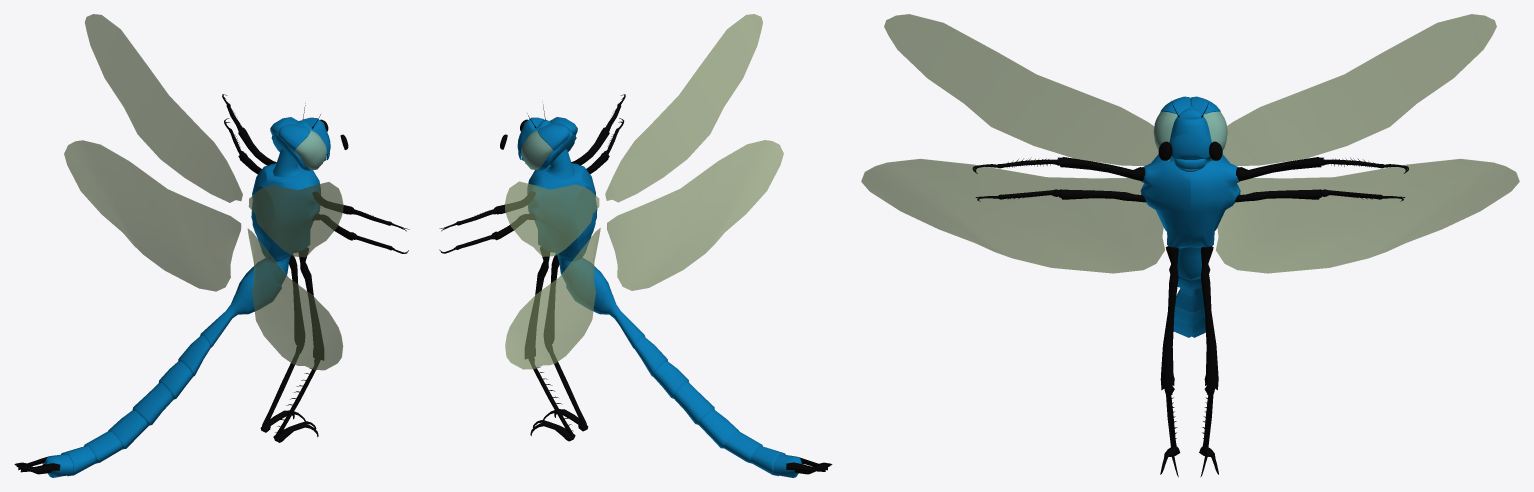
File: PixDragExpd.fbx
3 renders of one model, left to right at view 1: azimuth 30°, elevation 25°; view 2: azimuth 150°, elevation 25°; view 3: azimuth 270°, elevation 25°, orthographic. The views are drawn at different scales.
Visible parts, largest first — view 1: Abdomen, BackL, FrontL, BackR, FrontR, Face_Eyes, LegR, BackFore1 (×2), LegL, R_Lid, Neck; view 2: Abdomen, BackR, FrontR, BackL, FrontL, Face_Eyes, LegL, LegR, R_Lid1, Neck, BackFore1; view 3: BackR, BackL, FrontR, FrontL, Abdomen, Face_Eyes, LegR, LegL, TopArmL, TopArmR, MiddleR, MiddleL.
Boxes of the visible parts, x1=… form: Abdomen: x1=14, y1=163, x2=320, y2=477; BackL: x1=64, y1=140, x2=241, y2=291; FrontL: x1=84, y1=14, x2=242, y2=202; BackR: x1=247, y1=228, x2=343, y2=370; FrontR: x1=248, y1=182, x2=343, y2=257; Face_Eyes: x1=271, y1=117, x2=330, y2=170; LegR: x1=298, y1=247, x2=323, y2=360; BackFore1 (×2): x1=262, y1=344, x2=320, y2=437; LegL: x1=289, y1=253, x2=304, y2=347; R_Lid: x1=278, y1=124, x2=310, y2=150; Neck: x1=273, y1=149, x2=300, y2=177; Abdomen: x1=527, y1=163, x2=832, y2=477; BackR: x1=607, y1=140, x2=783, y2=290; FrontR: x1=605, y1=14, x2=762, y2=202; BackL: x1=505, y1=228, x2=600, y2=369; FrontL: x1=504, y1=181, x2=599, y2=256; Face_Eyes: x1=517, y1=117, x2=576, y2=170; LegL: x1=525, y1=247, x2=549, y2=358; LegR: x1=544, y1=254, x2=559, y2=345; R_Lid1: x1=537, y1=123, x2=569, y2=150; Neck: x1=546, y1=149, x2=574, y2=176; BackFore1: x1=545, y1=343, x2=586, y2=426; BackR: x1=861, y1=158, x2=1164, y2=273; BackL: x1=1216, y1=158, x2=1519, y2=273; FrontR: x1=884, y1=14, x2=1158, y2=165; FrontL: x1=1222, y1=14, x2=1496, y2=165; Abdomen: x1=1140, y1=154, x2=1240, y2=337; Face_Eyes: x1=1153, y1=101, x2=1227, y2=171; LegR: x1=1160, y1=246, x2=1178, y2=390; LegL: x1=1200, y1=246, x2=1218, y2=389; TopArmL: x1=1236, y1=157, x2=1323, y2=181; TopArmR: x1=1058, y1=157, x2=1145, y2=181; MiddleR: x1=1059, y1=189, x2=1146, y2=202; MiddleL: x1=1235, y1=189, x2=1321, y2=202.
Bounding box in the file's own units: 6.15 × 6.35 × 9.2.
